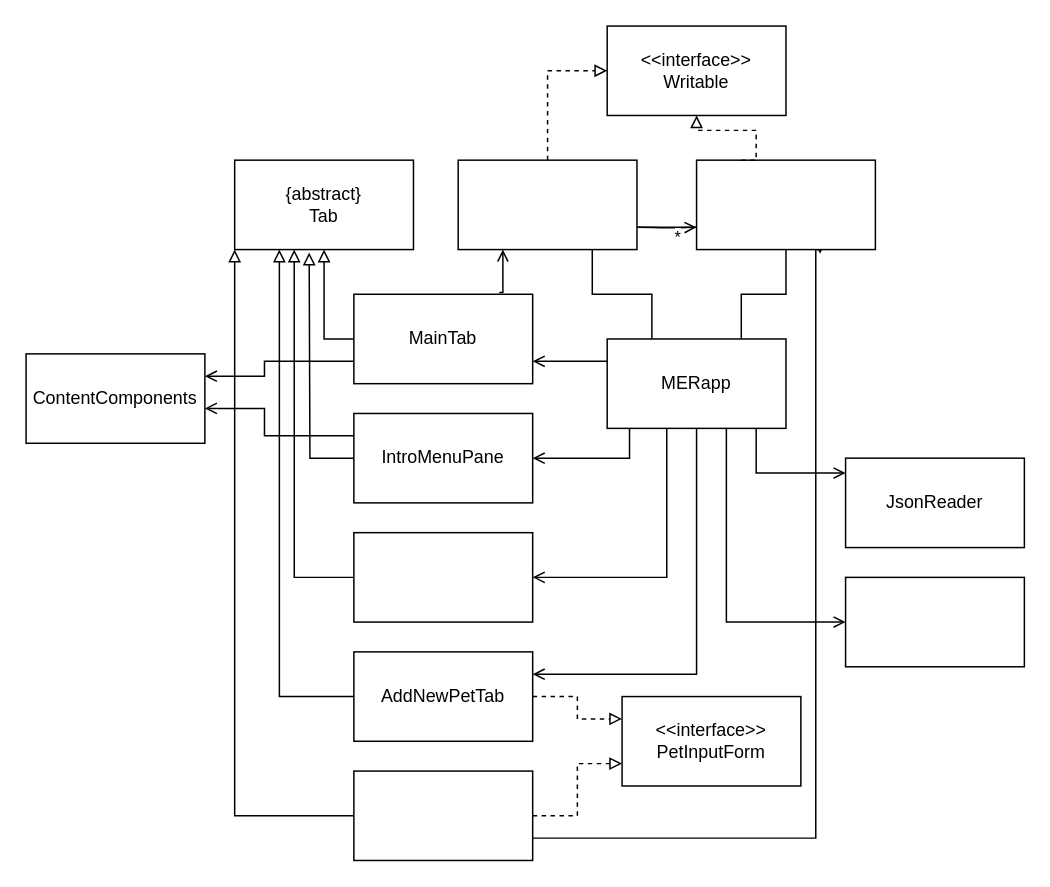
This 1050x887 diagram has some shape labels left out. Here are the shapes that lost their labels. From the top down, the centre of each, then its label:
At (547,204): "PetList".
At (785,204): "Pet".
At (442,576): "NewProfilePanel".
At (934,621): "JsonWriter".
At (442,815): "EditPetTab".
